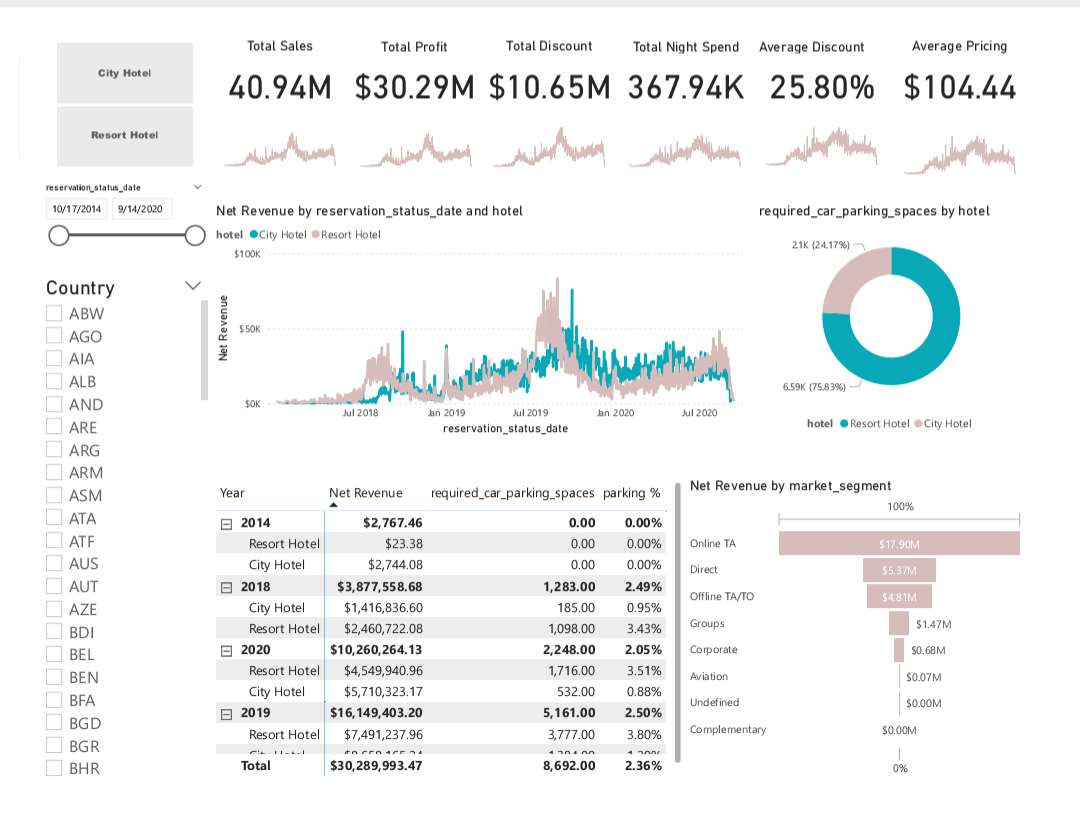

What the dashboard file says about the page in this screenshot:
{"tool":"powerbi","page":{"name":"Page 1","canvas":[1280,950],"ordinal":0},"visuals":[{"type":"card","title":"Average Pricing","fields":{"Values":["Avg(Query1.adr)"]},"box":[1073,12.4,167.2,94.5],"z":0},{"type":"card","title":"Total Discount","fields":{"Values":["Sum(Query1.tot discount )"]},"box":[568.3,12.4,167.2,94.5],"z":1000},{"type":"card","title":"Total Profit","fields":{"Values":["Sum(Query1.Net Revenue)"]},"box":[404.5,12.8,163.8,93.4],"z":1000,"group":"g2"},{"type":"card","title":"Average Discount","fields":{"Values":["Avg(Query1.Discount)"]},"box":[903.7,12.8,167.7,93.4],"z":2000},{"type":"lineChart","fields":{"Category":["Query1.reservation_status_date"],"Y":["Sum(Query1.tot discount )"]},"box":[568.3,106.8,167.2,69.7],"z":3000},{"type":"card","title":"Total Night Spend","fields":{"Values":["Query1.Total Night Spend"]},"box":[736,12.8,167.7,93.4],"z":4000,"group":"g3"},{"type":"lineChart","fields":{"Y":["Sum(Query1.Net Revenue)"],"Category":["Query1.reservation_status_date"],"Series":["Query1.hotel"]},"box":[236.9,215.2,668.9,291.1],"z":4000},{"type":"card","title":"Total Sales","fields":{"Values":["Sum(Query1.revenue)"]},"box":[236.9,12.4,167.2,94.5],"z":5000,"group":"g1"},{"type":"lineChart","fields":{"Category":["Query1.reservation_status_date"],"Y":["Sum(Query1.Discount)"]},"box":[902.7,105.3,167.2,69.7],"z":5000},{"type":"slicer","fields":{"Values":["Query1.country"]},"box":[20.1,301.9,216.8,624],"z":6000},{"type":"slicer","fields":{"Values":["Query1.hotel"]},"box":[20.1,12.4,216.8,164.1],"z":7000},{"type":"lineChart","fields":{"Category":["Query1.reservation_status_date"]},"box":[1073,106.8,170.3,69.7],"z":8000},{"type":"lineChart","fields":{"Category":["Query1.reservation_status_date"],"Y":["Sum(Query1.revenue)"]},"box":[236.9,106.9,167.2,69.7],"z":9000,"group":"g1"},{"type":"lineChart","fields":{"Category":["Query1.reservation_status_date"],"Y":["Sum(Query1.Discount)"]},"box":[1073,116.1,167.2,69.7],"z":9000},{"type":"lineChart","fields":{"Category":["Query1.reservation_status_date"],"Y":["Sum(Query1.Net Revenue)"]},"box":[404.1,106.8,167.2,69.7],"z":9001,"group":"g2"},{"type":"lineChart","fields":{"Category":["Query1.reservation_status_date"],"Y":["Query1.Total Night Spend"]},"box":[735.5,106.8,167.2,69.7],"z":9003,"group":"g3"},{"type":"donutChart","fields":{"Y":["Sum(Query1.required_car_parking_spaces)"],"Category":["Query1.hotel"]},"box":[904.3,215.2,336,291.1],"z":10000},{"type":"group","id":"g1","title":"Group 1","box":[236.9,12.4,167.2,164.1],"z":11000},{"type":"group","id":"g2","title":"Group 2","box":[404.1,12.8,167.2,163.7],"z":12000},{"type":"group","id":"g3","title":"Group 4","box":[735.5,12.8,168.2,163.7],"z":13000},{"type":"pivotTable","fields":{"Rows":["Query1.reservation_status_date.Variation.Date Hierarchy.Year","Query1.hotel"],"Values":["Sum(Query1.Net Revenue)","Sum(Query1.required_car_parking_spaces)","Query1.parking %"]},"box":[236.9,554.3,582.2,371.6],"z":14000},{"type":"slicer","fields":{"Values":["Query1.reservation_status_date"]},"box":[20.1,185.8,216.8,105.3],"z":15000},{"type":"funnel","fields":{"Category":["Query1.market_segment"],"Y":["Sum(Query1.Net Revenue)"]},"box":[819.1,554.3,421.2,371.6],"z":16000}]}

Visuals, with their boxes in screenshot pixels (x1, y1, x2, y2), scaled from the page's 1280x950 canvas onto the 1080x815 screenshot:
"Average Pricing" card: 905, 11, 1046, 92
"Total Discount" card: 480, 11, 621, 92
"Total Profit" card: 341, 11, 480, 91
"Average Discount" card: 762, 11, 904, 91
lineChart - Query1.reservation_status_date x Sum(Query1.tot discount ): 480, 92, 621, 151
"Total Night Spend" card: 621, 11, 762, 91
lineChart - Sum(Query1.Net Revenue) x Query1.reservation_status_date: 200, 185, 764, 434
"Total Sales" card: 200, 11, 341, 92
lineChart - Query1.reservation_status_date x Sum(Query1.Discount): 762, 90, 903, 150
slicer - Query1.country: 17, 259, 200, 794
slicer - Query1.hotel: 17, 11, 200, 151
lineChart - Query1.reservation_status_date: 905, 92, 1049, 151
lineChart - Query1.reservation_status_date x Sum(Query1.revenue): 200, 92, 341, 152
lineChart - Query1.reservation_status_date x Sum(Query1.Discount): 905, 100, 1046, 159
lineChart - Query1.reservation_status_date x Sum(Query1.Net Revenue): 341, 92, 482, 151
lineChart - Query1.reservation_status_date x Query1.Total Night Spend: 621, 92, 762, 151
donutChart - Sum(Query1.required_car_parking_spaces) x Query1.hotel: 763, 185, 1047, 434
"Group 1" group: 200, 11, 341, 151
"Group 2" group: 341, 11, 482, 151
"Group 4" group: 621, 11, 762, 151
pivotTable - Query1.reservation_status_date.Variation.Date Hierarchy.Year x Query1.hotel: 200, 476, 691, 794
slicer - Query1.reservation_status_date: 17, 159, 200, 250
funnel - Query1.market_segment x Sum(Query1.Net Revenue): 691, 476, 1047, 794
